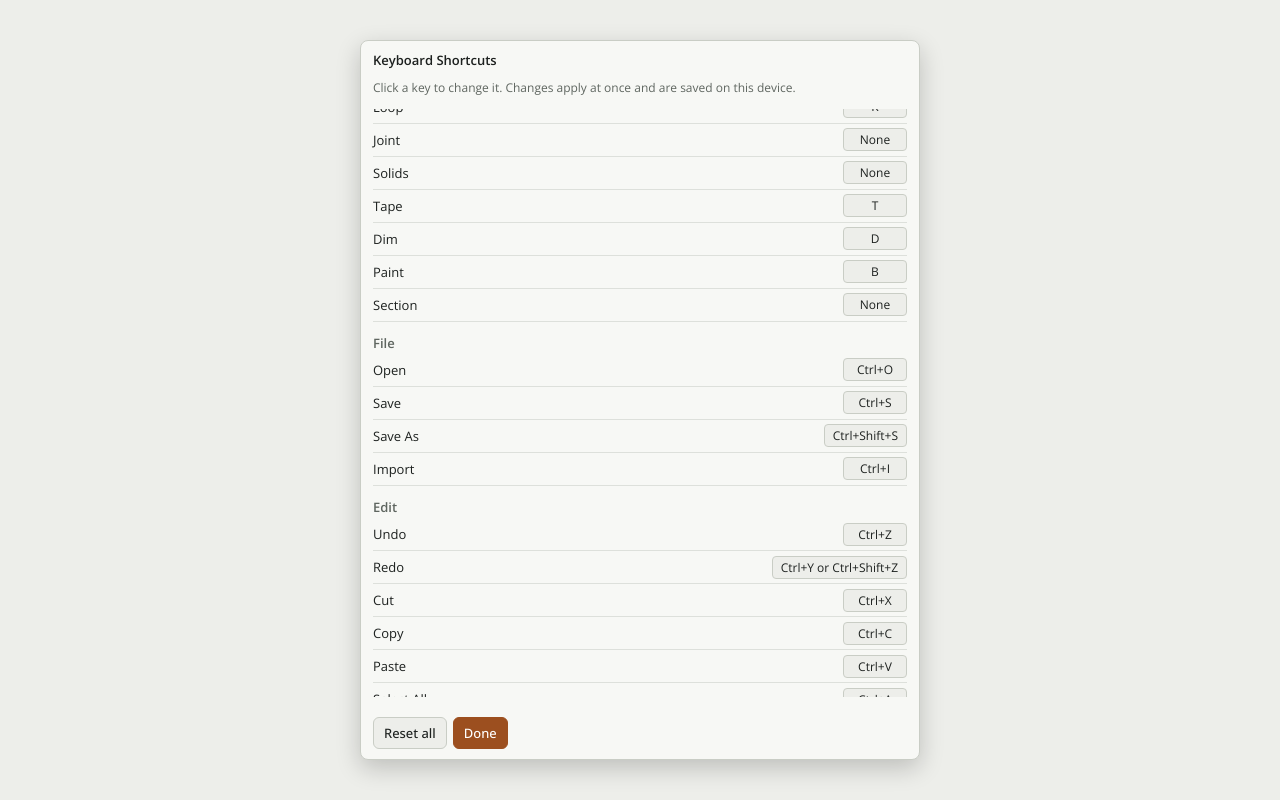
it: the Keyboard Shortcuts page › refuses a key a running plugin holds
(page scrolled)
Click the button "Ctrl+S" at coordinates (875, 403), box [843,392,907,414]
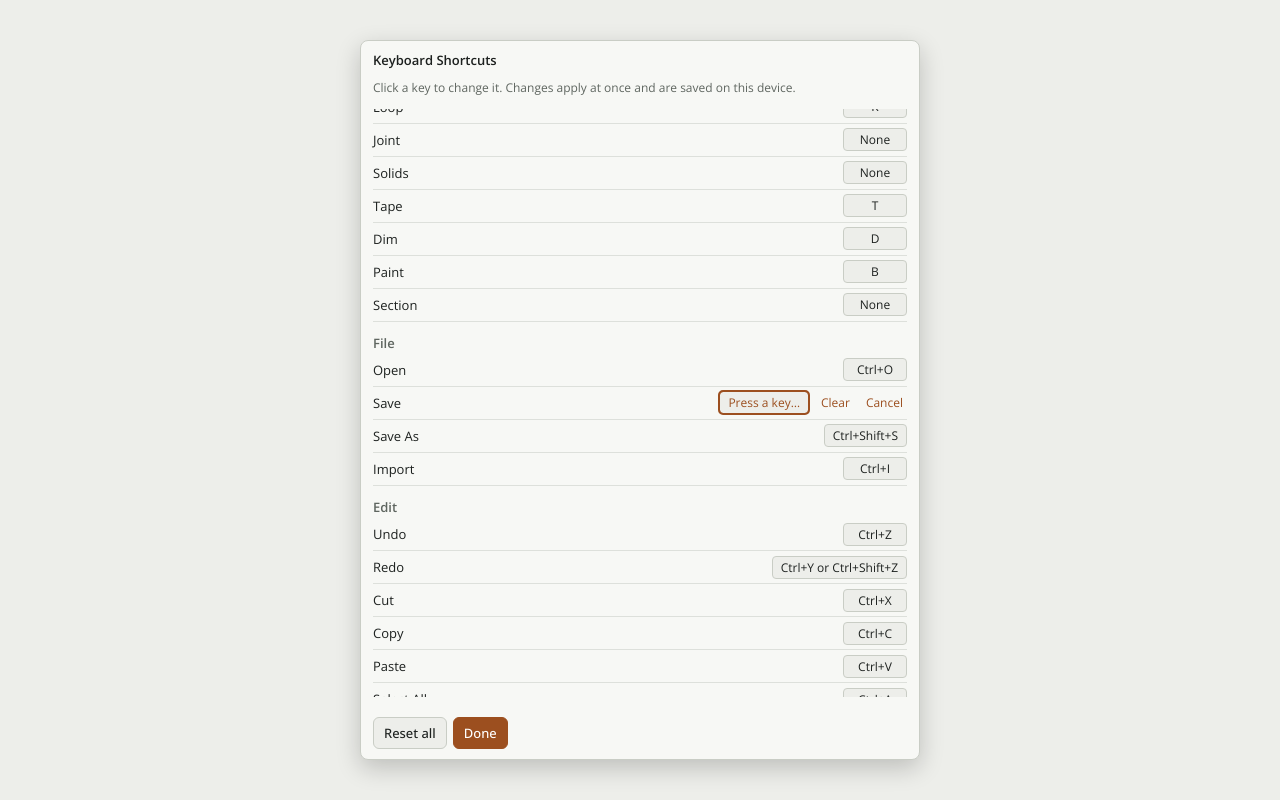
Press k in the button "Press a key…", box [719,392,809,414]
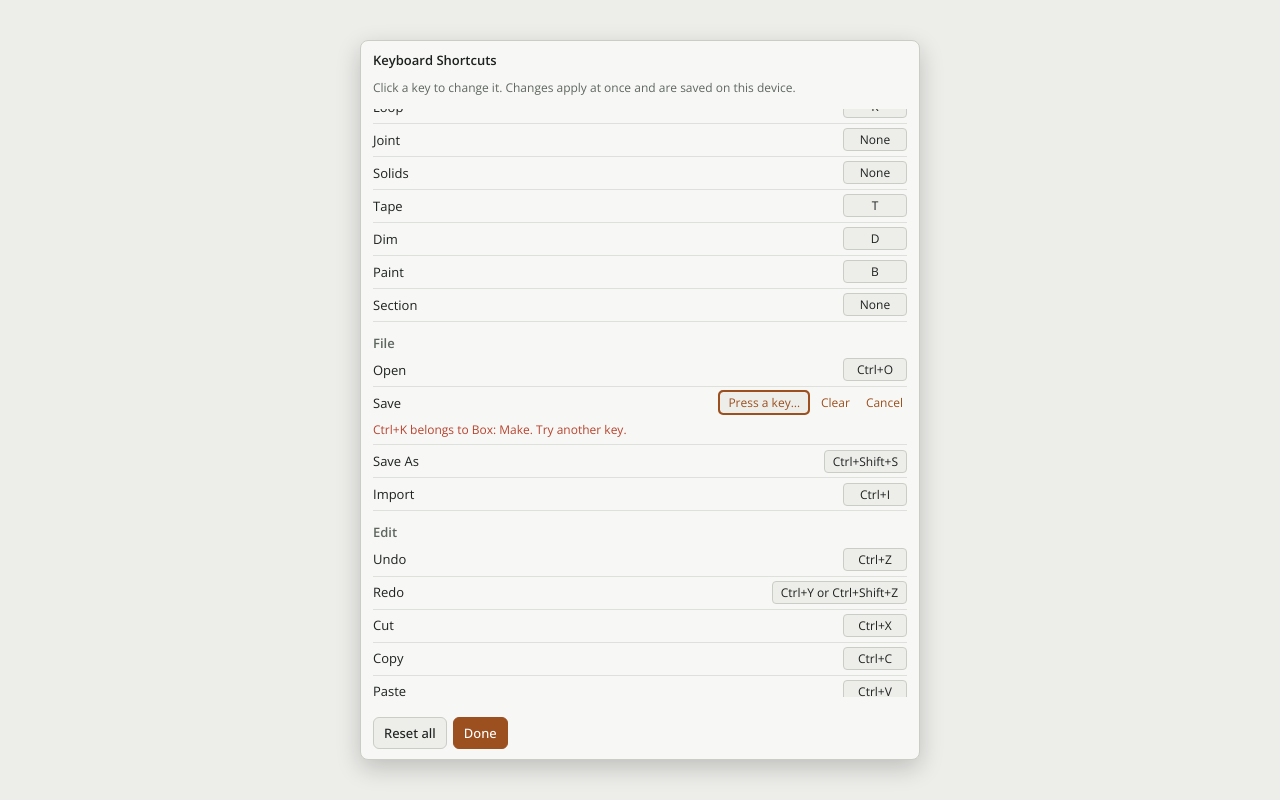
Now the message shows "belongs to Box: Make", box [373,421,626,438]
